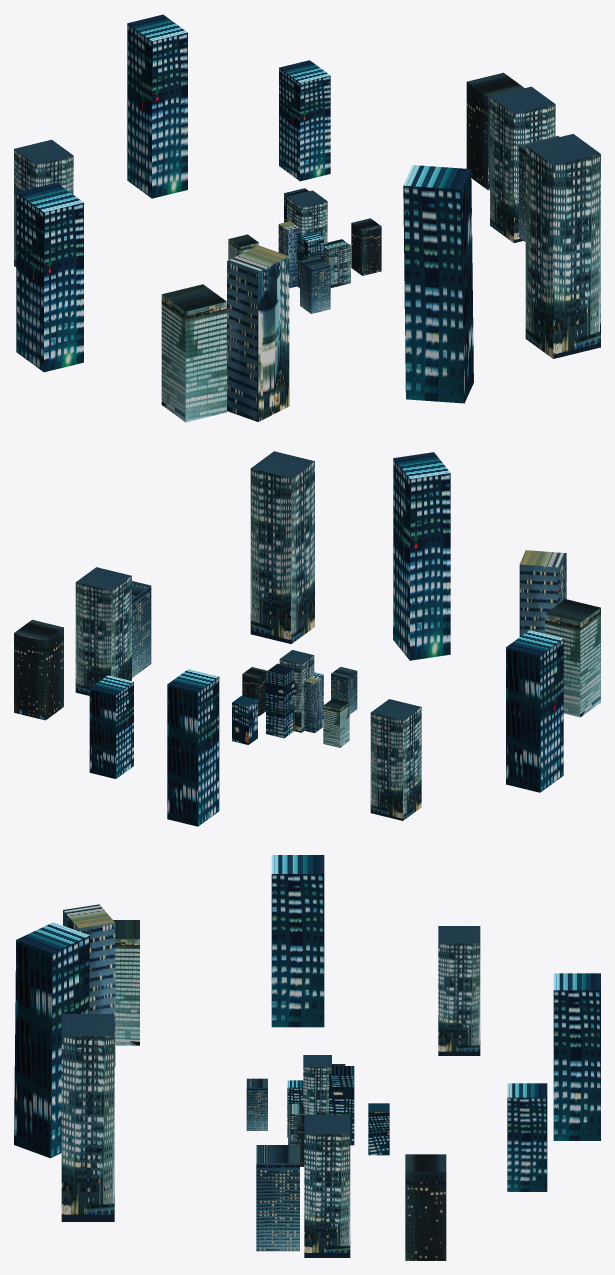
Rendered from building.fbx.
The picture shows the model from 3 angles, top to bottom: view 1: azimuth 30°, elevation 25°; view 2: azimuth 150°, elevation 25°; view 3: azimuth 270°, elevation 25°; orthographic projection. The views are drawn at different scales.
Parts seen in each view (by area): view 1: pCube31, pCube30, pCube32, pCube26, pCube29, pCube28, pCube22, pCube25, pCube24, pCube27, pCube19, pCube17 (+5 smaller); view 2: pCube31, pCube30, pCube32, pCube26, pCube22, pCube27, pCube28, pCube24, pCube25, pCube29, pCube21, pCube23 (+6 smaller); view 3: pCube30, pCube31, pCube32, pCube26, pCube22, pCube27, pCube23, pCube24, pCube25, pCube29, pCube28, pCube1 (+3 smaller).
Part boxes in pixels (left/top/right/bottom): pCube31: left=525, top=134, right=600, bottom=358; pCube30: left=403, top=165, right=473, bottom=403; pCube32: left=16, top=182, right=83, bottom=372; pCube26: left=127, top=14, right=187, bottom=198; pCube29: left=227, top=245, right=289, bottom=421; pCube28: left=161, top=284, right=226, bottom=422; pCube22: left=490, top=86, right=555, bottom=242; pCube25: left=279, top=60, right=330, bottom=181; pCube24: left=466, top=72, right=524, bottom=190; pCube27: left=14, top=139, right=73, bottom=267; pCube19: left=300, top=256, right=330, bottom=313; pCube17: left=351, top=218, right=381, bottom=275; pCube31: left=250, top=451, right=314, bottom=644; pCube30: left=393, top=452, right=450, bottom=660; pCube32: left=506, top=630, right=563, bottom=792; pCube26: left=167, top=669, right=219, bottom=826; pCube22: left=75, top=567, right=131, bottom=695; pCube27: left=370, top=699, right=421, bottom=820; pCube28: left=545, top=599, right=600, bottom=717; pCube24: left=14, top=619, right=63, bottom=720; pCube25: left=89, top=675, right=133, bottom=778; pCube29: left=519, top=550, right=566, bottom=636; pCube21: left=266, top=663, right=294, bottom=738; pCube23: left=132, top=581, right=151, bottom=677; pCube30: left=14, top=922, right=89, bottom=1158; pCube31: left=61, top=1014, right=114, bottom=1221; pCube32: left=271, top=855, right=324, bottom=1027; pCube26: left=553, top=973, right=600, bottom=1140; pCube22: left=304, top=1114, right=350, bottom=1257; pCube27: left=438, top=926, right=480, bottom=1055; pCube23: left=256, top=1145, right=299, bottom=1251; pCube24: left=405, top=1154, right=446, bottom=1260; pCube25: left=507, top=1083, right=547, bottom=1191; pCube29: left=63, top=904, right=115, bottom=1066; pCube28: left=113, top=920, right=139, bottom=1045; pCube1: left=303, top=1055, right=331, bottom=1114.
Bounding box in the file's own units: 85464 × 31848 × 82279.
